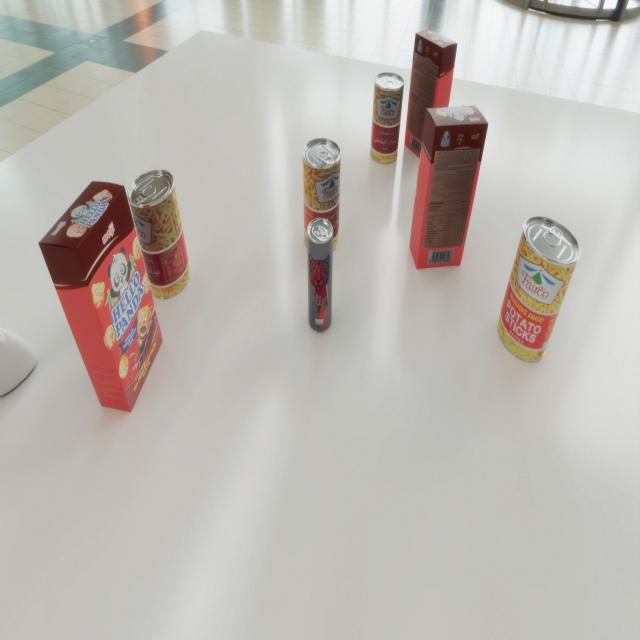HelloPanda: (38, 181, 163, 412), (409, 106, 488, 269), (404, 29, 458, 165)
Potato_sticks: (496, 216, 580, 363), (127, 170, 191, 300), (302, 138, 341, 256), (370, 72, 404, 165)
Rita_zero_sugar: (307, 218, 333, 333)
Salt: (430, 134, 468, 188)
